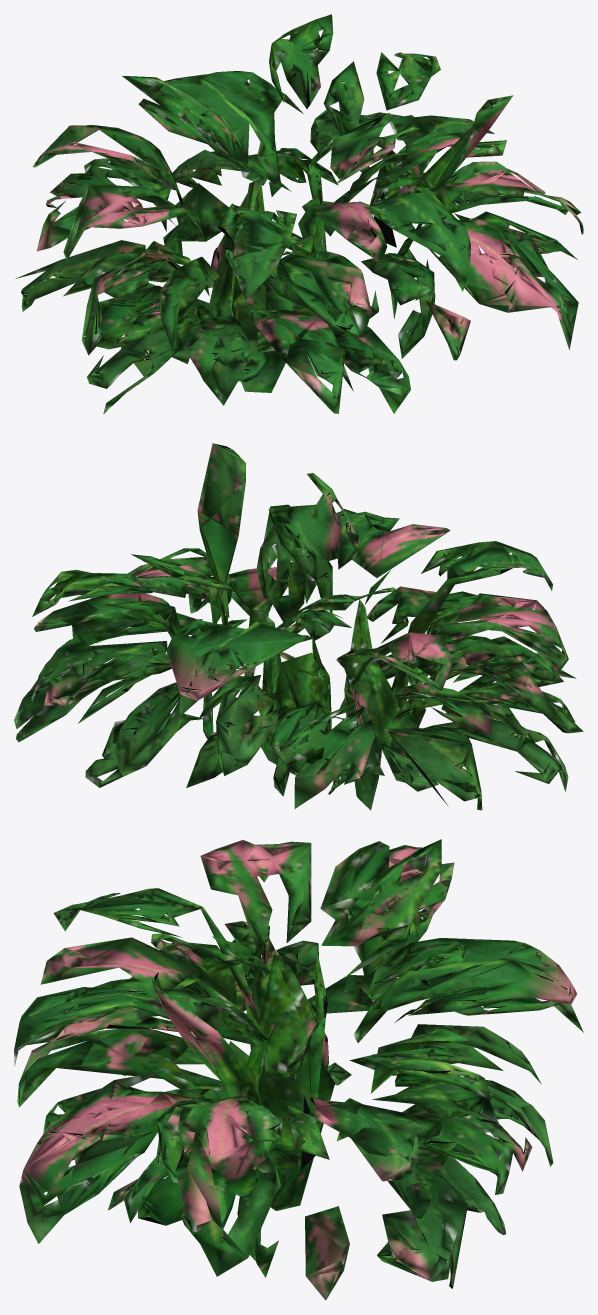
The model's file is fern.glb.
3 renders of one model, top to bottom at view 1: azimuth 30°, elevation 25°; view 2: azimuth 150°, elevation 25°; view 3: azimuth 270°, elevation 25°, orthographic. The views are drawn at different scales.
Parts seen in each view (by area): view 1: low; view 2: low; view 3: low.
Boxes of the visible parts, x1,y1,x2,y2 form: low: [15, 14, 583, 413]; low: [14, 443, 583, 810]; low: [14, 839, 583, 1300].
Size of the model in its own units: 1.85 by 1 by 1.57.
Materials: 1 (1 with a texture image).
